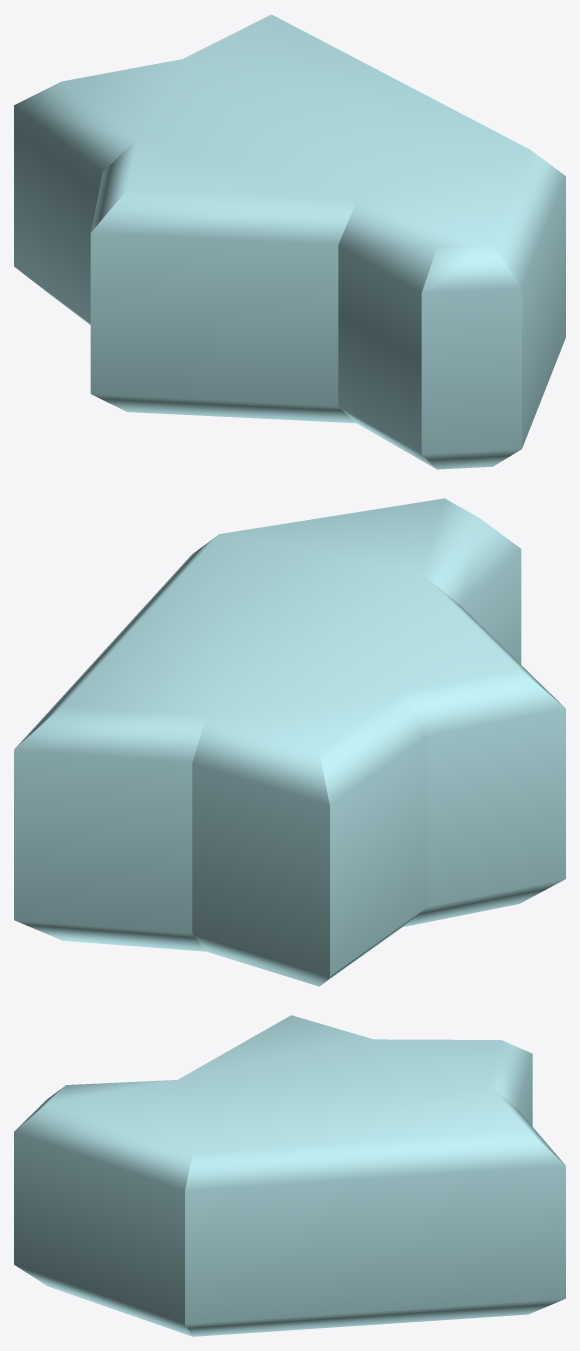
File: ice_floe_small_008.fbx
3 views of the same model, one above another, from view 1: azimuth 30°, elevation 25°; view 2: azimuth 150°, elevation 25°; view 3: azimuth 270°, elevation 25° (orthographic). The views are drawn at different scales.
Parts seen in each view (by area): view 1: ice_floe_small_008; view 2: ice_floe_small_008; view 3: ice_floe_small_008.
Part boxes in pixels (bbox=[...]): ice_floe_small_008: bbox=[14, 14, 565, 469]; ice_floe_small_008: bbox=[14, 498, 565, 986]; ice_floe_small_008: bbox=[14, 1015, 565, 1336].
Size of the model in its own units: 136 by 190 by 69.62.
